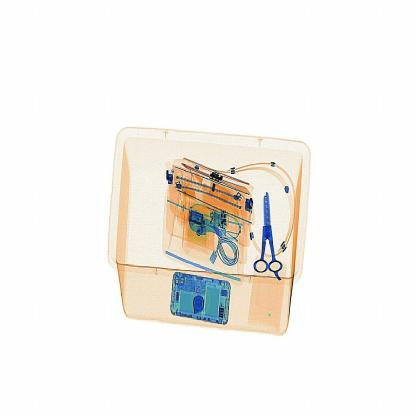gun: (254, 179, 291, 277)
